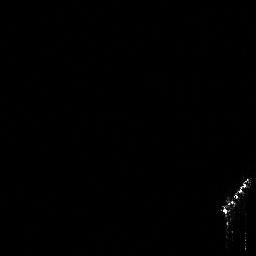ship: (215, 174, 254, 228)
